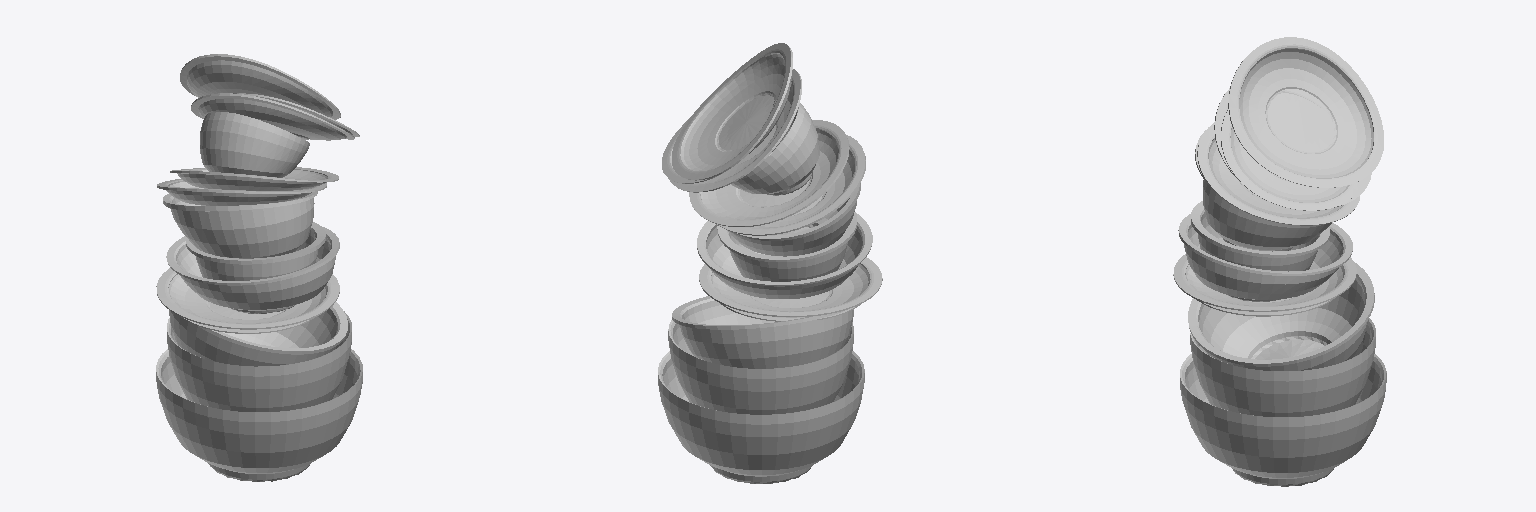
The model's file is cratedishes.obj.
3 renders of one model, left to right at view 1: azimuth 30°, elevation 25°; view 2: azimuth 150°, elevation 25°; view 3: azimuth 270°, elevation 25°, orthographic.
Parts seen in each view (by area): view 1: dishes_18; view 2: dishes_18; view 3: dishes_18.
Boxes of the visible parts, x1,y1,x2,y2 form: dishes_18: [156, 54, 362, 481]; dishes_18: [658, 43, 882, 483]; dishes_18: [1173, 37, 1386, 486].
Bounding box in the file's own units: 220 × 460 × 215.